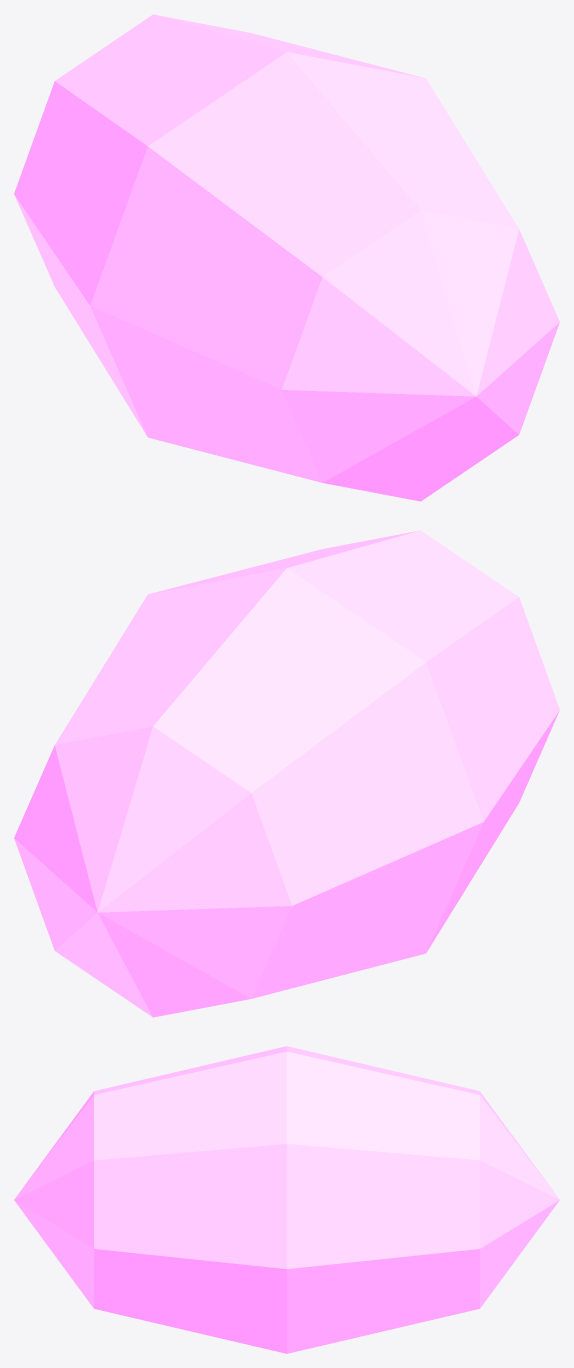
Rendered from magic_missile.glb.
3 renders of one model, top to bottom at view 1: azimuth 30°, elevation 25°; view 2: azimuth 150°, elevation 25°; view 3: azimuth 270°, elevation 25°, orthographic. The views are drawn at different scales.
Parts seen in each view (by area): view 1: magic_missile; view 2: magic_missile; view 3: magic_missile.
Boxes of the visible parts, bbox=[...] form: magic_missile: bbox=[14, 14, 559, 501]; magic_missile: bbox=[14, 530, 559, 1017]; magic_missile: bbox=[14, 1046, 559, 1353].
Size of the model in its own units: 0.18 by 0.18 by 0.3.
